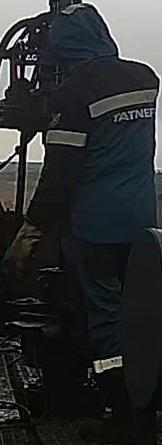gloves: (4, 216, 48, 273)
vest: (51, 58, 162, 240)
